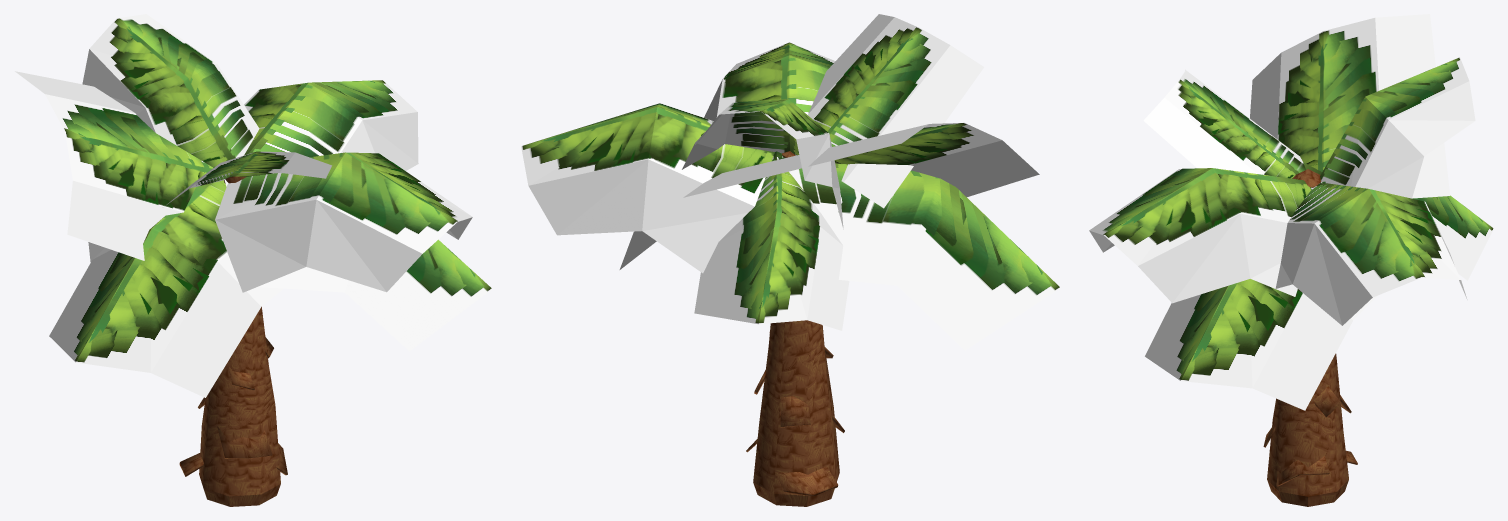
File: VEG_TRE_Palm_LOD01.FBX
3 views of the same model, side by side, from view 1: azimuth 30°, elevation 25°; view 2: azimuth 150°, elevation 25°; view 3: azimuth 270°, elevation 25° (orthographic). The views are drawn at different scales.
Visible parts, largest first — view 1: VEG_TRE_Palm_LOD01; view 2: VEG_TRE_Palm_LOD01; view 3: VEG_TRE_Palm_LOD01.
Part boxes in pixels (x1,y1,x2,y2): VEG_TRE_Palm_LOD01: (15,14,491,506); VEG_TRE_Palm_LOD01: (521,14,1060,506); VEG_TRE_Palm_LOD01: (1089,14,1493,506).
Size of the model in its own units: 2699 by 2630 by 2337.
